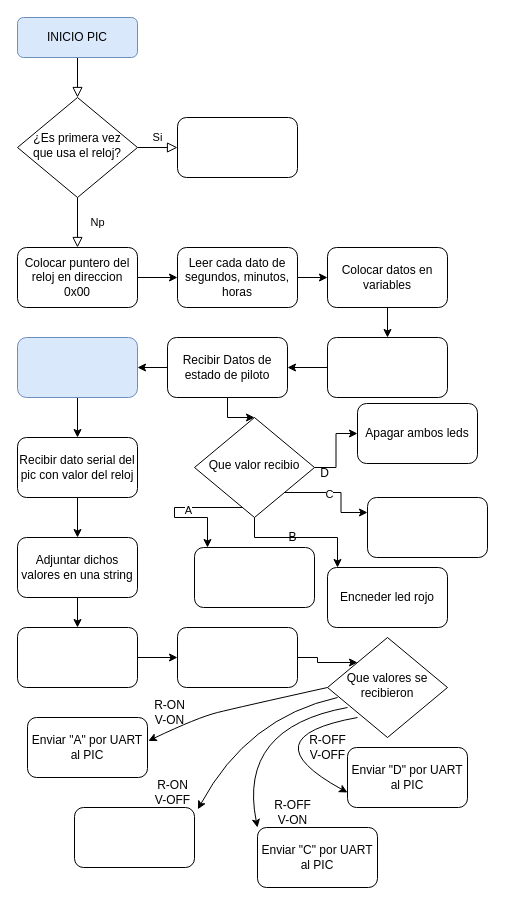
This 505x905 diagram has some shape labels left out. The shapes that lost their labels are listed below. From the top down, each one's box as (x1, y1, x2, y2) in pixels, then its label:
(176, 116, 298, 178): Enviar configuracion inicial de tiempo actual
(16, 336, 138, 398): INICIO ESP32
(326, 336, 448, 398): Enviar datos por UART
(366, 496, 488, 558): Encender led verde
(194, 546, 314, 608): Encender ambos Leds
(16, 626, 138, 688): Enviar dicha string al feed correspondiente de Adafruit
(176, 626, 298, 688): Recibir de Adafruit Estados de Luces Piloto
(74, 806, 194, 868): Enviar "B" por UART al PIC
